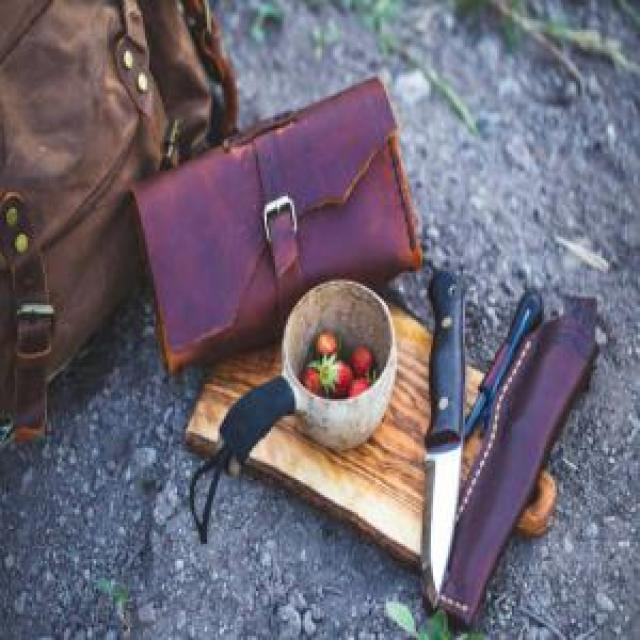knife: (416, 269, 468, 613)
